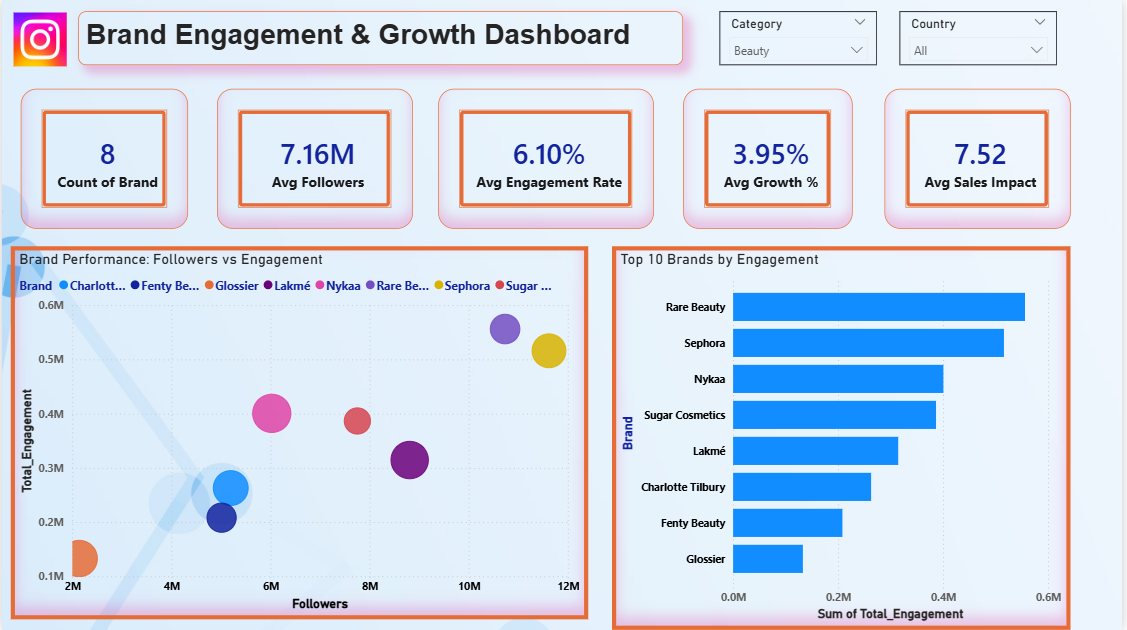

What the dashboard file says about the page in this screenshot:
{"tool":"powerbi","page":{"name":"EXECUTIVE OPERATION","canvas":[1280,720],"ordinal":0},"visuals":[{"type":"textbox","box":[87.5,12.5,691.2,61.2],"z":0},{"type":"cardVisual","fields":{"Data":["Count(cleaned_data.Brand)"]},"box":[21.2,101.2,191.2,160],"z":1000},{"type":"cardVisual","fields":{"Data":["Avg(cleaned_data.Followers)"]},"box":[245,101.2,223.8,160],"z":2000},{"type":"cardVisual","fields":{"Data":["Avg(cleaned_data.Overall Eng Rate %)"]},"box":[498.8,101.2,246.2,160],"z":3000},{"type":"cardVisual","fields":{"Data":["Avg(cleaned_data.Monthly Follower Growth %)"]},"box":[778.8,101.2,193.8,160],"z":4000},{"type":"cardVisual","fields":{"Data":["Avg(cleaned_data.Sales Impact Score (1-10))"]},"box":[1008.8,101.2,212.5,160],"z":5000},{"type":"clusteredBarChart","title":"Top 10 Brands by Engagement","fields":{"Category":["cleaned_data.Brand"],"Y":["Sum(cleaned_data.Total_Engagement)"]},"box":[697.5,281.2,523.8,438.8],"z":6000},{"type":"scatterChart","title":"Brand Performance: Followers vs Engagement","fields":{"X":["cleaned_data.Followers"],"Y":["cleaned_data.Total_Engagement"],"Size":["Avg(cleaned_data.Sales Impact Score (1-10))"],"Series":["cleaned_data.Brand"]},"box":[10,281.2,660,426.2],"z":7000},{"type":"image","box":[10,13.8,67.5,61.2],"z":8000},{"type":"slicer","fields":{"Values":["cleaned_data.Category"]},"box":[820,12.5,180,61.2],"z":9000},{"type":"slicer","fields":{"Values":["cleaned_data.Country"]},"box":[1025,12.5,180,61.2],"z":10000}]}

Visuals, with their boxes in screenshot pixels (x1, y1, x2, y2), scaled from the page's 1280x720 canvas onto the 1127x630 screenshot:
textbox: select_region(77, 11, 686, 64)
cardVisual - Count(cleaned_data.Brand): select_region(19, 89, 187, 229)
cardVisual - Avg(cleaned_data.Followers): select_region(216, 89, 413, 229)
cardVisual - Avg(cleaned_data.Overall Eng Rate %): select_region(439, 89, 656, 229)
cardVisual - Avg(cleaned_data.Monthly Follower Growth %): select_region(686, 89, 856, 229)
cardVisual - Avg(cleaned_data.Sales Impact Score (1-10)): select_region(888, 89, 1075, 229)
"Top 10 Brands by Engagement" clusteredBarChart: select_region(614, 246, 1075, 629)
"Brand Performance: Followers vs Engagement" scatterChart: select_region(9, 246, 590, 619)
image: select_region(9, 12, 68, 66)
slicer - cleaned_data.Category: select_region(722, 11, 880, 64)
slicer - cleaned_data.Country: select_region(902, 11, 1061, 64)
